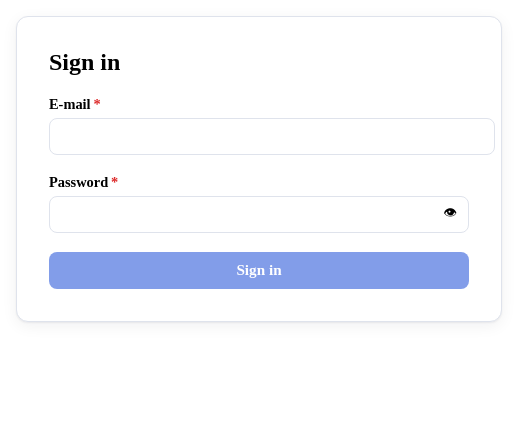
Test: LoginForm › offers to resend the verification e-mail
Step 1. Type "a@b.c" into the field labelled "E-mail*" → point(272, 137), box [49, 118, 495, 155]
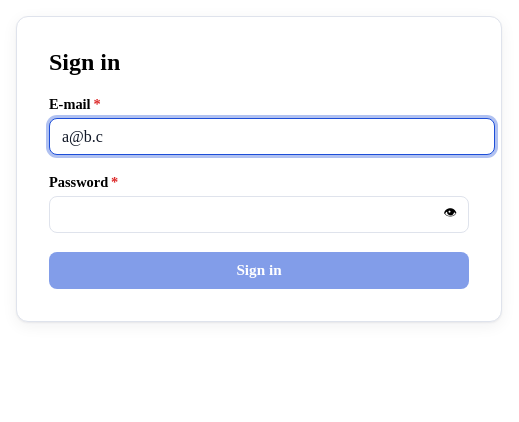
Step 2. Type "pw" into the password field labelled "Password*" → point(259, 214), box [49, 196, 469, 233]
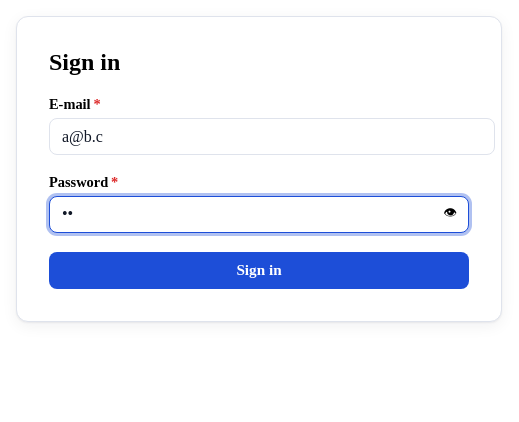
Step 3. Click the button "Sign in" → point(259, 270), box [49, 252, 469, 289]
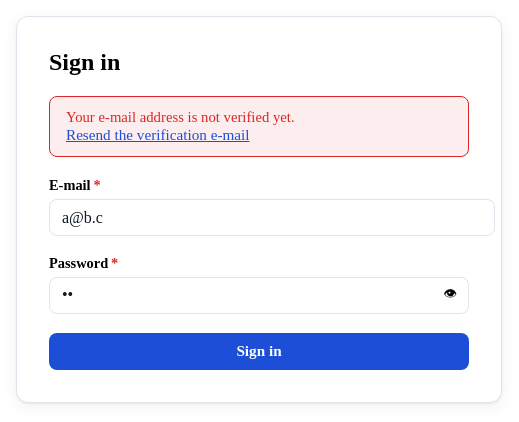
Step 4. Click the button "Resend the verification e-mail" → point(158, 135), box [66, 126, 250, 144]
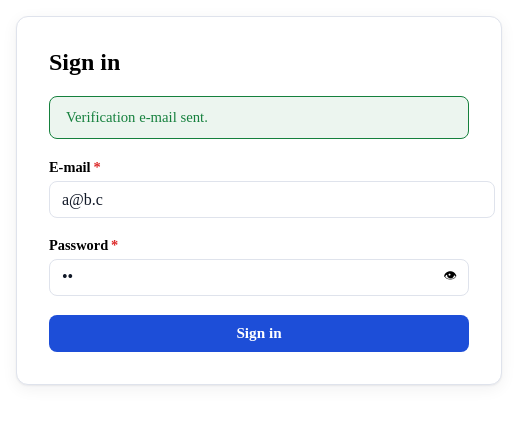
Expected: the text "Verification e-mail sent." is shown, [66, 109, 208, 125]
